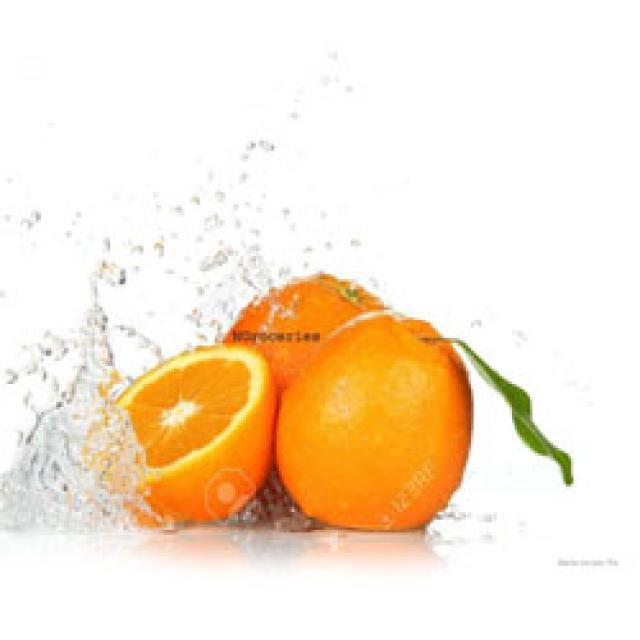orange: (276, 311, 475, 533), (224, 265, 388, 532), (90, 345, 275, 522)
